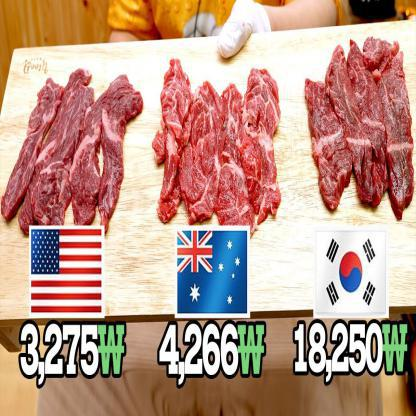beef: (156, 76, 280, 214), (316, 34, 414, 207), (20, 81, 128, 224)
